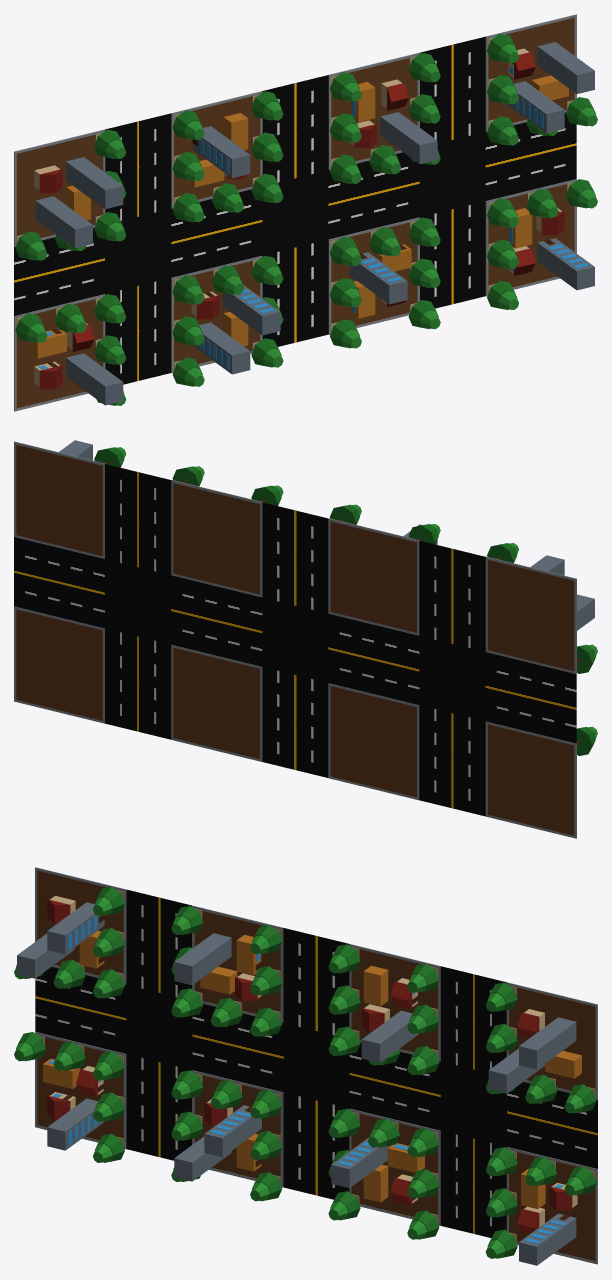
File: static_scene.obj
3 renders of one model, top to bottom at view 1: azimuth 30°, elevation 25°; view 2: azimuth 150°, elevation 25°; view 3: azimuth 330°, elevation 25°, orthographic.
Visible parts, largest first — view 1: static_scene; view 2: static_scene; view 3: static_scene.
Boxes of the visible parts, box(x1,y1,x2,y2) form: static_scene: box(14, 14, 597, 411); static_scene: box(14, 440, 597, 838); static_scene: box(14, 867, 597, 1265).
Size of the model in its own units: 30.46 by 13.86 by 3.63.
1 material, 1 textured.
